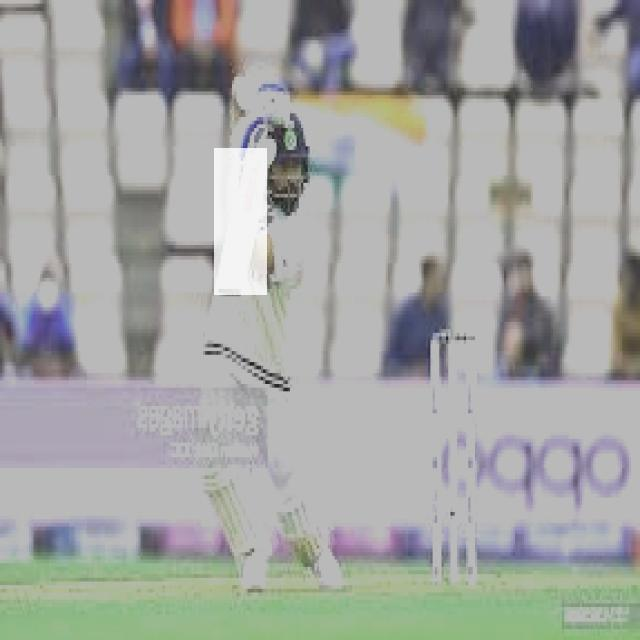bat: (211, 146, 268, 300)
toe: (217, 286, 243, 298)
